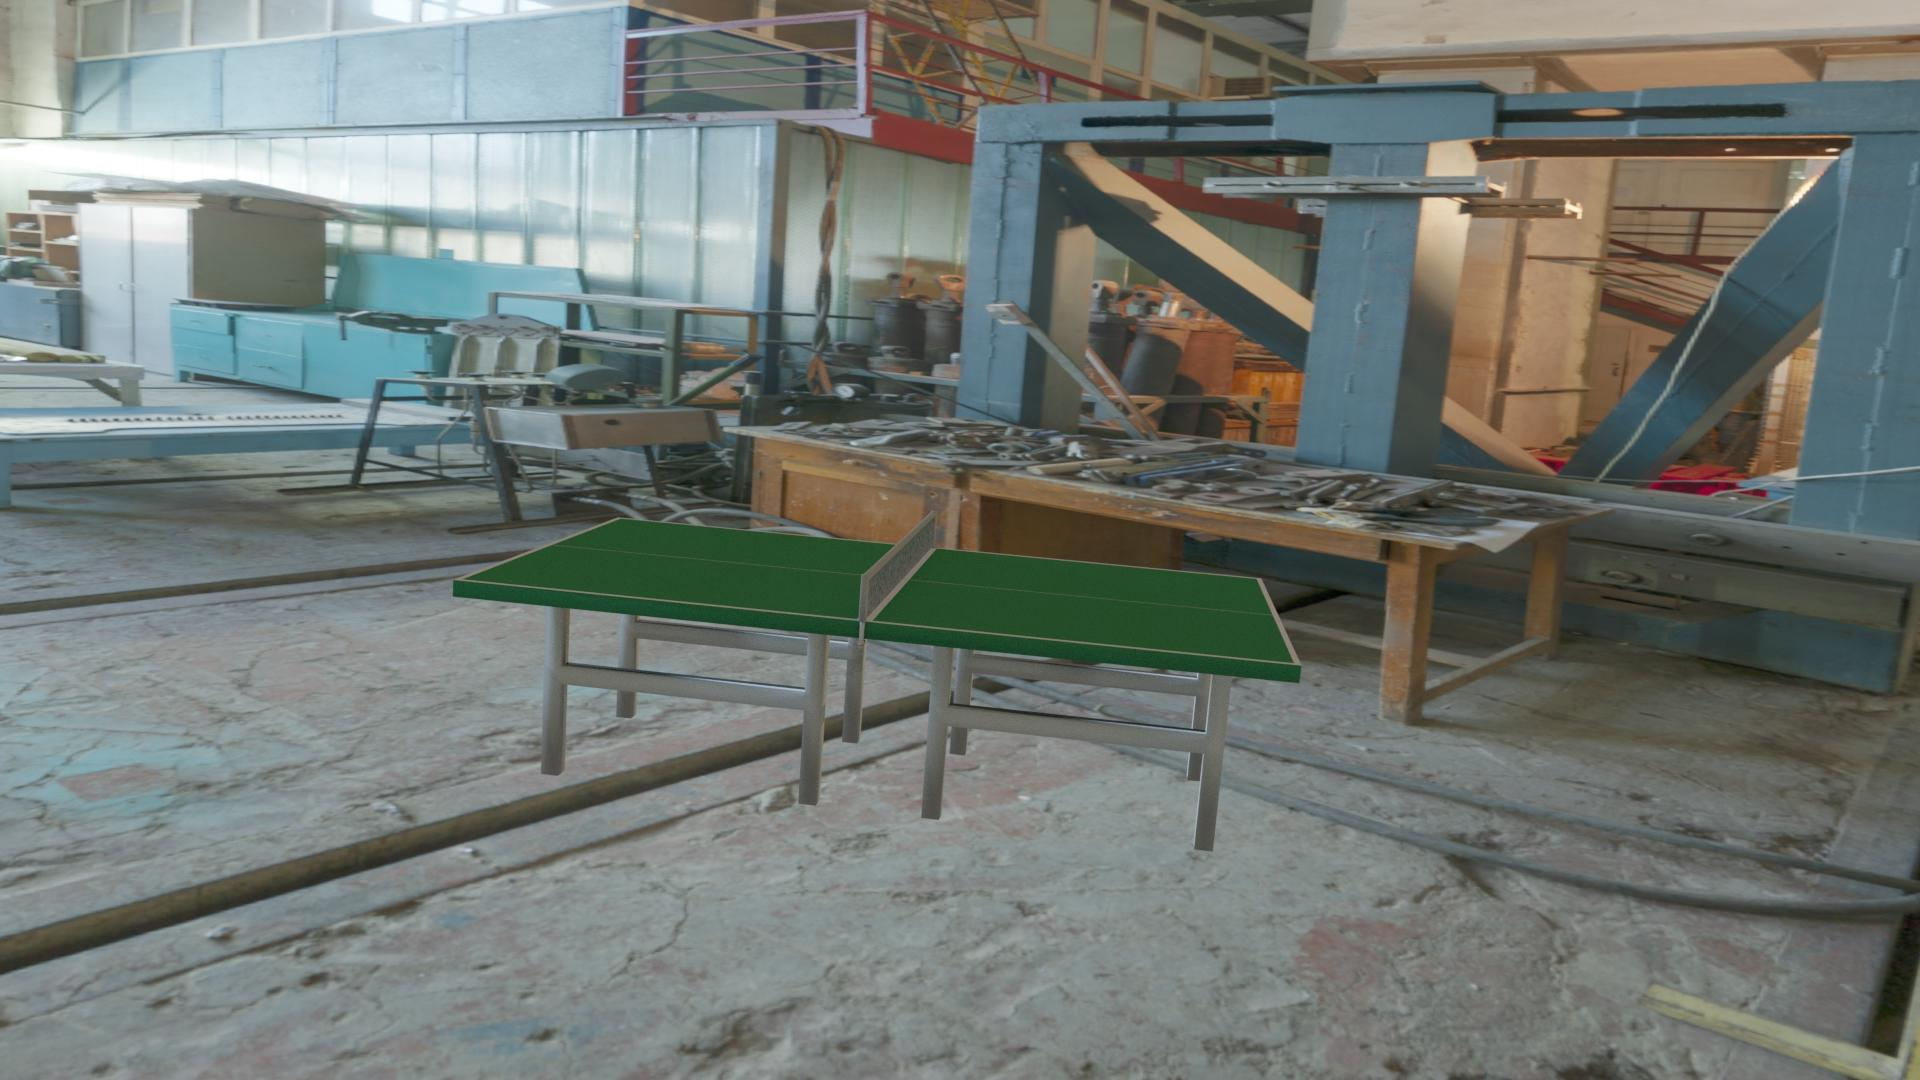table: (462, 518, 1294, 663)
